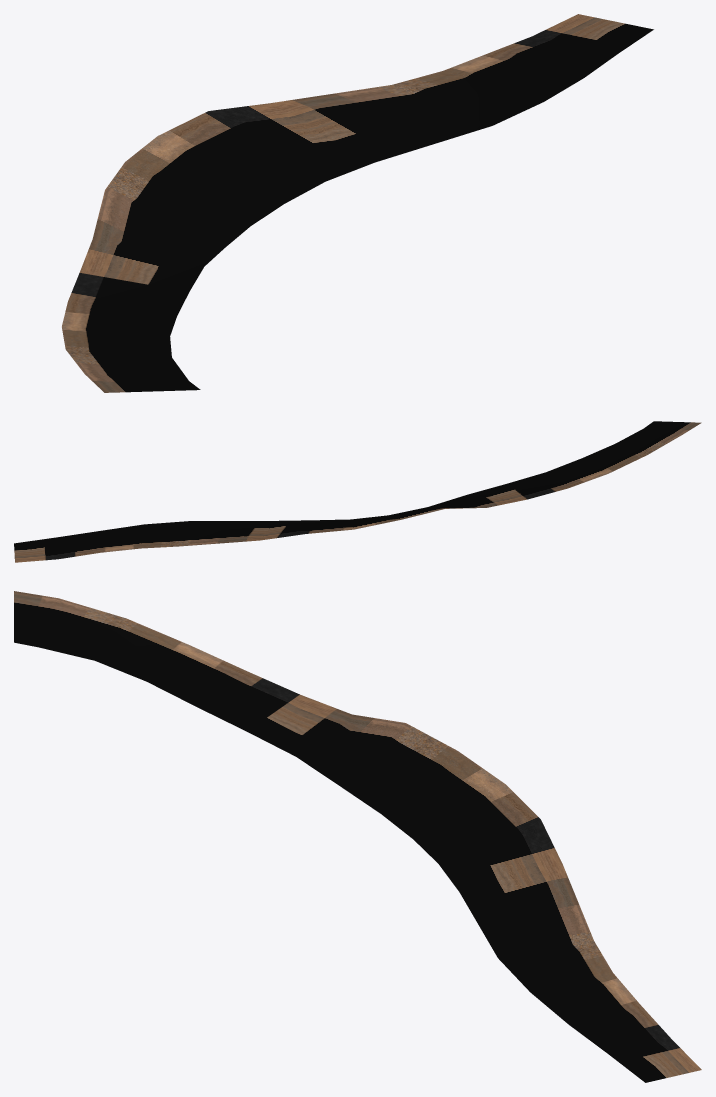
Rendered from Tide_GenerateSurfaceDecal_264AC822_0_FlowDecal_SmallMesh_Mesh_x9_y5_149_0_ATLAS.fbx.
3 views of the same model, one above another, from view 1: azimuth 30°, elevation 25°; view 2: azimuth 150°, elevation 25°; view 3: azimuth 270°, elevation 25° (orthographic). The views are drawn at different scales.
Visible parts, largest first — view 1: Tide_GenerateSurfaceDecal_264AC822_0_FlowDecal_SmallMesh_Mes; view 2: Tide_GenerateSurfaceDecal_264AC822_0_FlowDecal_SmallMesh_Mes; view 3: Tide_GenerateSurfaceDecal_264AC822_0_FlowDecal_SmallMesh_Mes.
Part boxes in pixels (<box>): Tide_GenerateSurfaceDecal_264AC822_0_FlowDecal_SmallMesh_Mes: <box>62,14,653,392</box>; Tide_GenerateSurfaceDecal_264AC822_0_FlowDecal_SmallMesh_Mes: <box>14,421,701,562</box>; Tide_GenerateSurfaceDecal_264AC822_0_FlowDecal_SmallMesh_Mes: <box>14,591,701,1082</box>.
Size of the model in its own units: 1284 by 1040 by 224.
